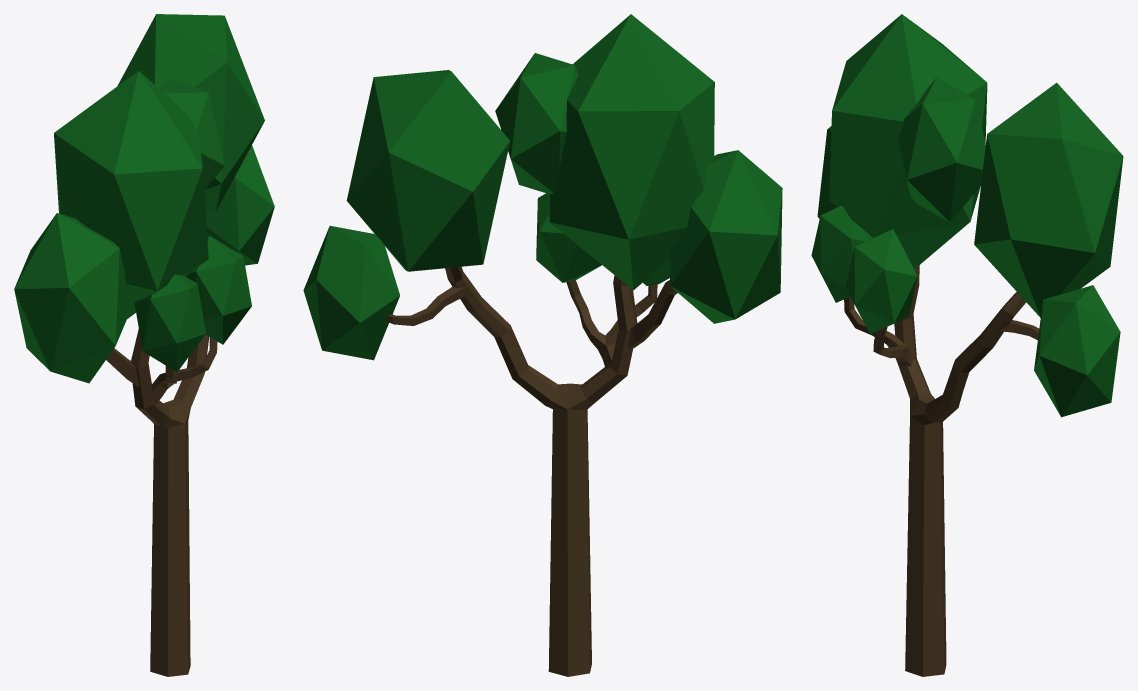
The model's file is BirchTree.fbx.
The picture shows the model from 3 angles, left to right: view 1: azimuth 30°, elevation 25°; view 2: azimuth 150°, elevation 25°; view 3: azimuth 270°, elevation 25°; orthographic projection. The views are drawn at different scales.
Visible parts, largest first — view 1: BirchTree; view 2: BirchTree; view 3: BirchTree.
Boxes of the visible parts, x1,y1,x2,y2 form: BirchTree: [14, 14, 274, 676]; BirchTree: [303, 14, 782, 676]; BirchTree: [811, 14, 1123, 676].
Bounding box in the file's own units: 146 × 247 × 110.
